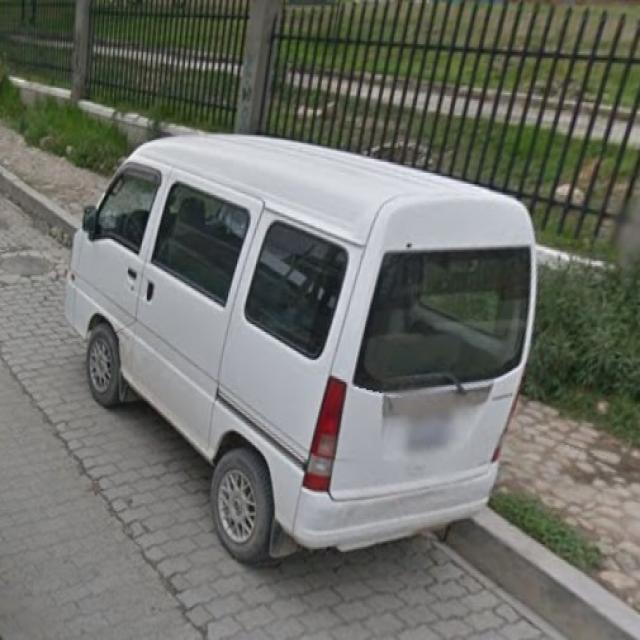Car: (68, 84, 526, 552)
